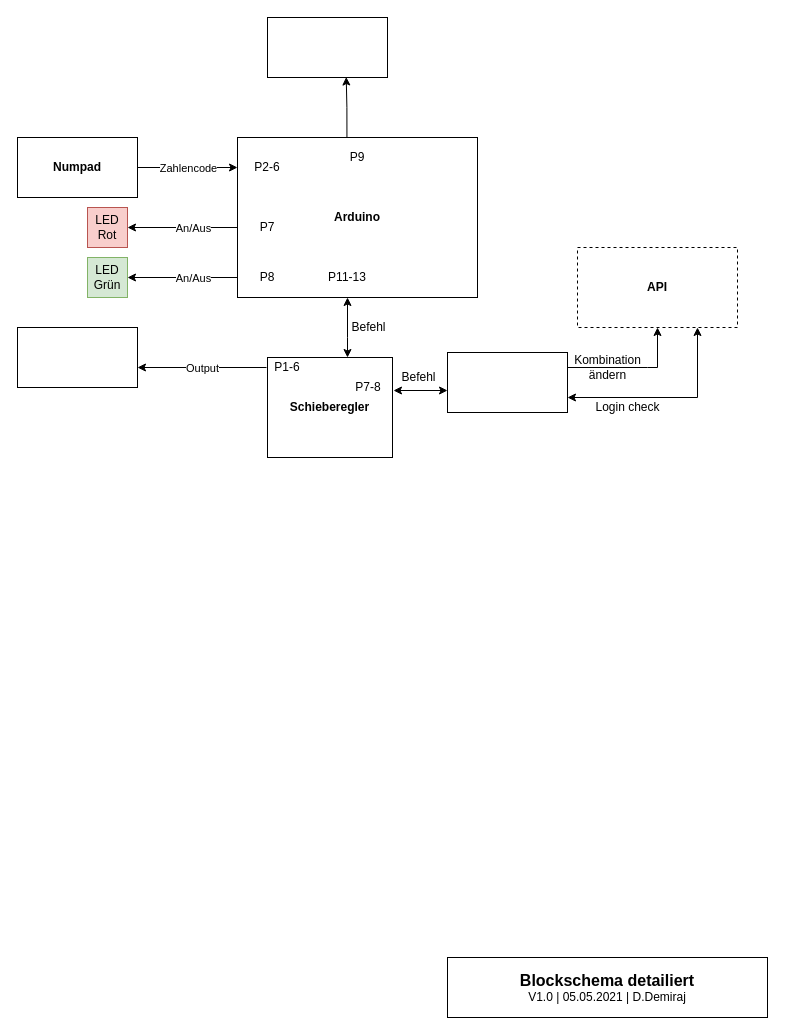
Image size: 785x1035. Some labels were removed from this diagram. Here are the shapes that lost their labels. From the top down, the centre of each, then its label:
At point (327, 47): "Summer".
At point (77, 357): "Display".
At point (507, 382): "WiFi-Module".
